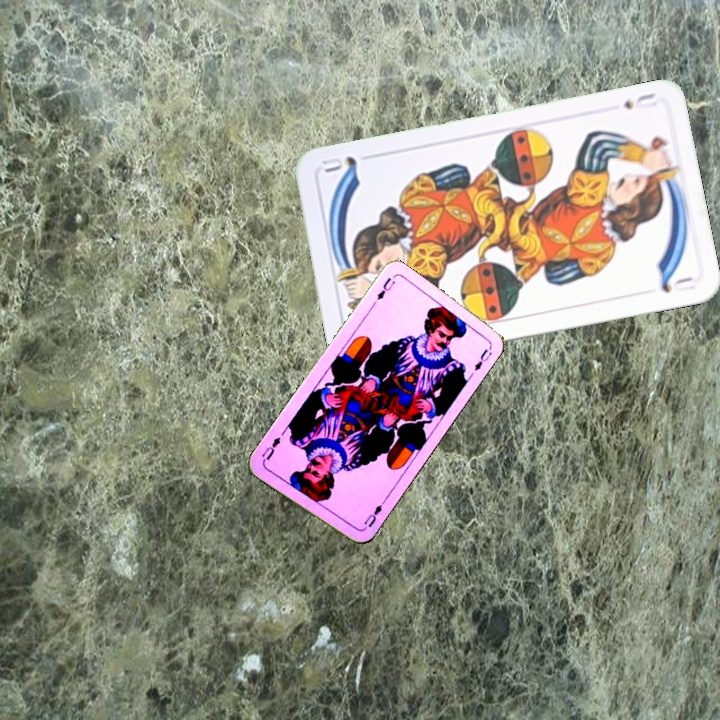EU: (359, 497, 387, 533), (373, 273, 398, 303)
SU: (619, 88, 660, 112)
